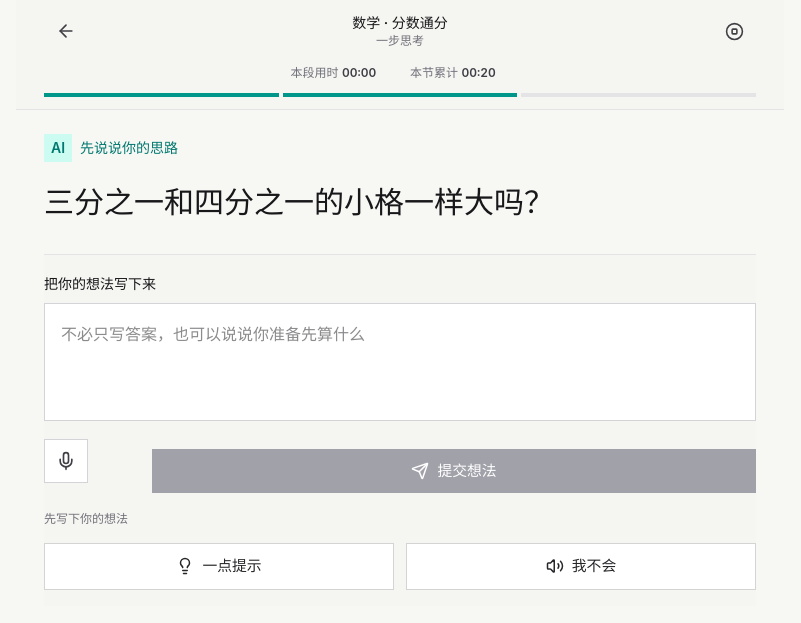
Test: keeps controls and typed text available when a HINT must be rephrased
Step 1. Type "我正在整理自己的思路" into the text box with id "student-answer" → (400, 362), box [44,303,756,421]
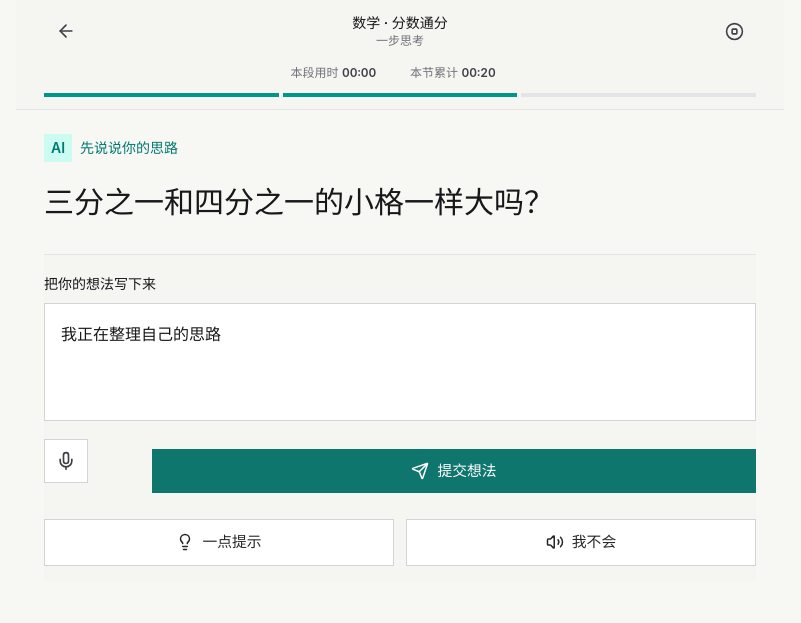
Step 2. Click the button "一点提示" → click(219, 542), box [44,519,394,566]
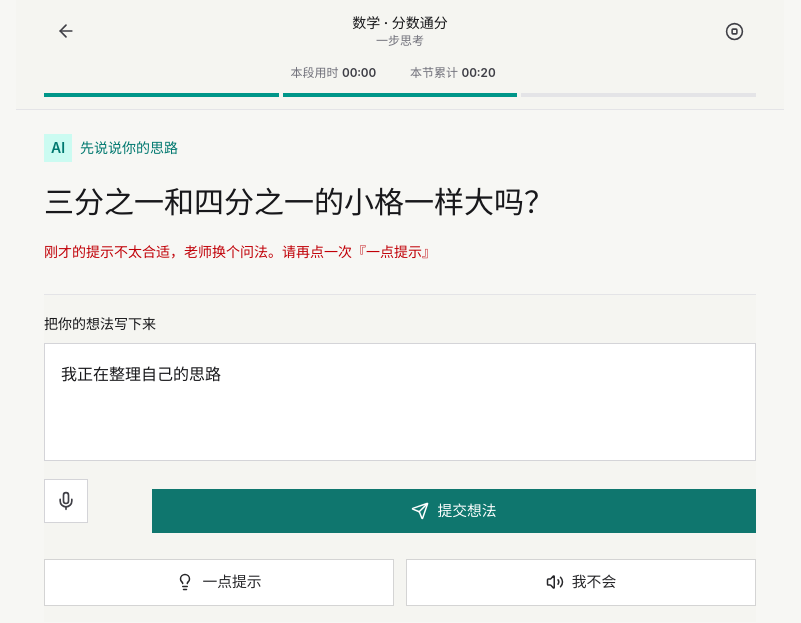
Expected: the element with test id "answer-controls" is enabled, [44,311,756,606]
Expected: the submit button is enabled, [152,489,756,533]
Expected: the message "刚才的提示不太合适，老师换个问法。请再点一次『一点提示』" is shown, [44,243,436,260]
